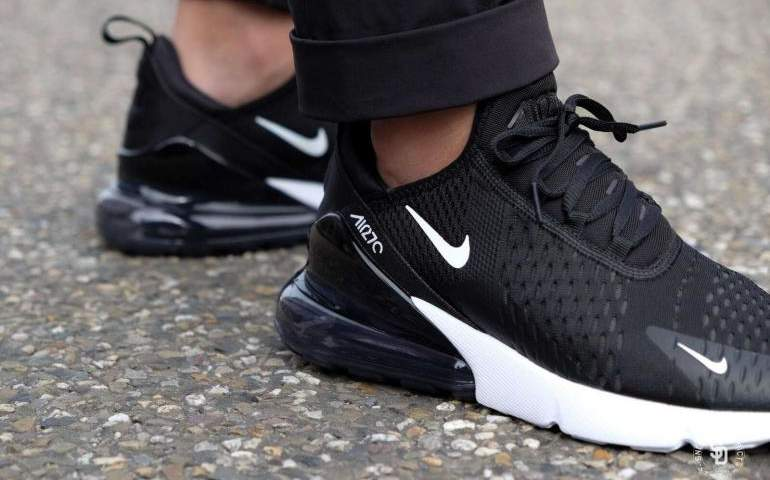nike: (403, 205, 473, 271), (249, 113, 331, 160), (673, 339, 732, 382)
